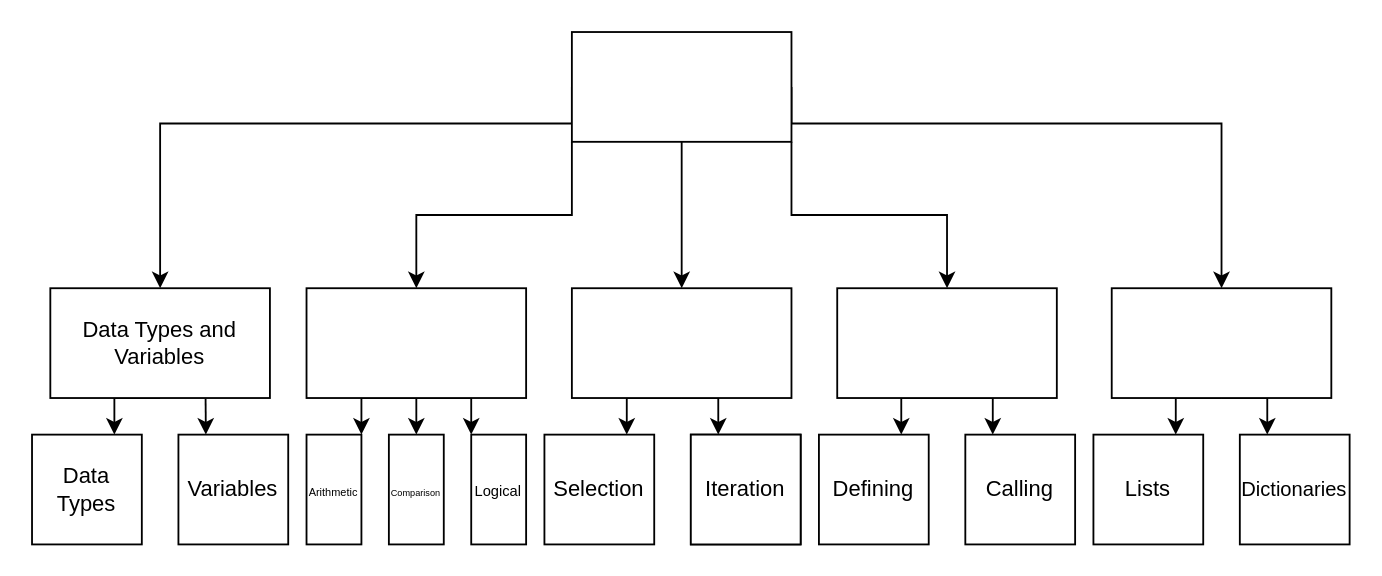
The diagram is 1382 pixels wide and 576 high, and some of its shapes have lost their labels. The shapes that lost their labels are listed below. From the top down, each one's box as (x1, y1, x2, y2) in pixels, then its label:
(570, 30, 791, 142): Homepage
(305, 286, 526, 398): Operators
(570, 286, 791, 398): Control Structures
(835, 286, 1057, 398): Functions
(1110, 286, 1331, 398): Data Structures
